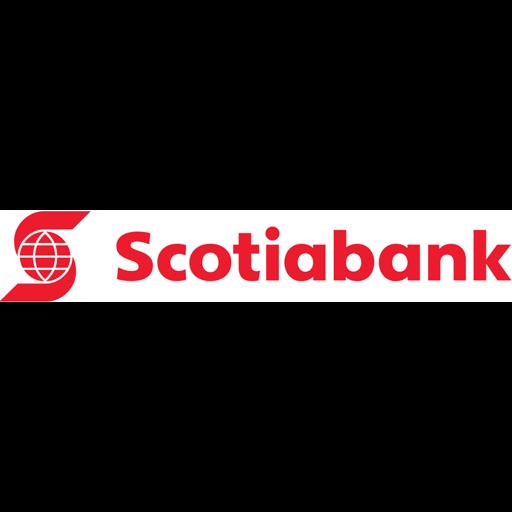Scotiabank: (0, 210, 512, 302)
